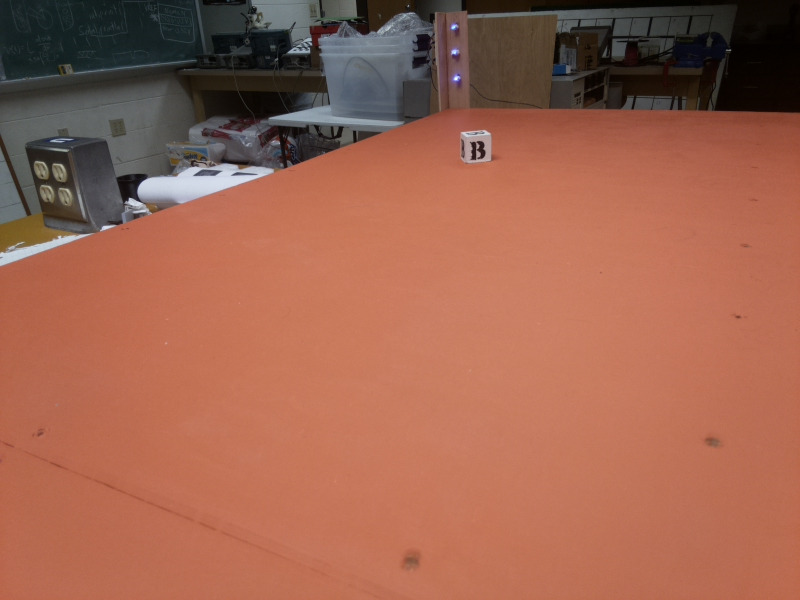blockB: (460, 128, 491, 165)
corner: (431, 11, 475, 112)
